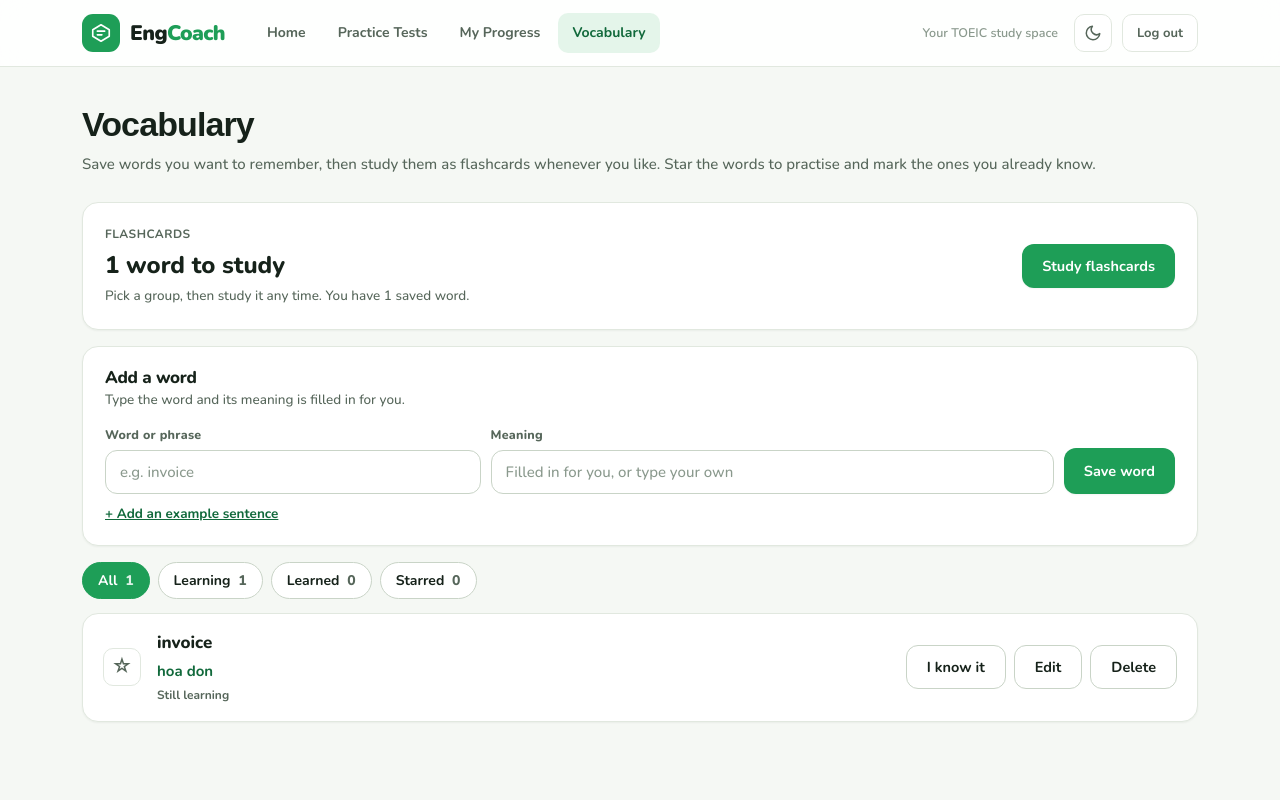
Test: Vocabulary page › edits a word in place
This screenshot has width=1280, height=800.
Step 1. Click the button with aria-label "Edit invoice" → (1048, 668), box x1=1014 y1=646 x2=1082 y2=690
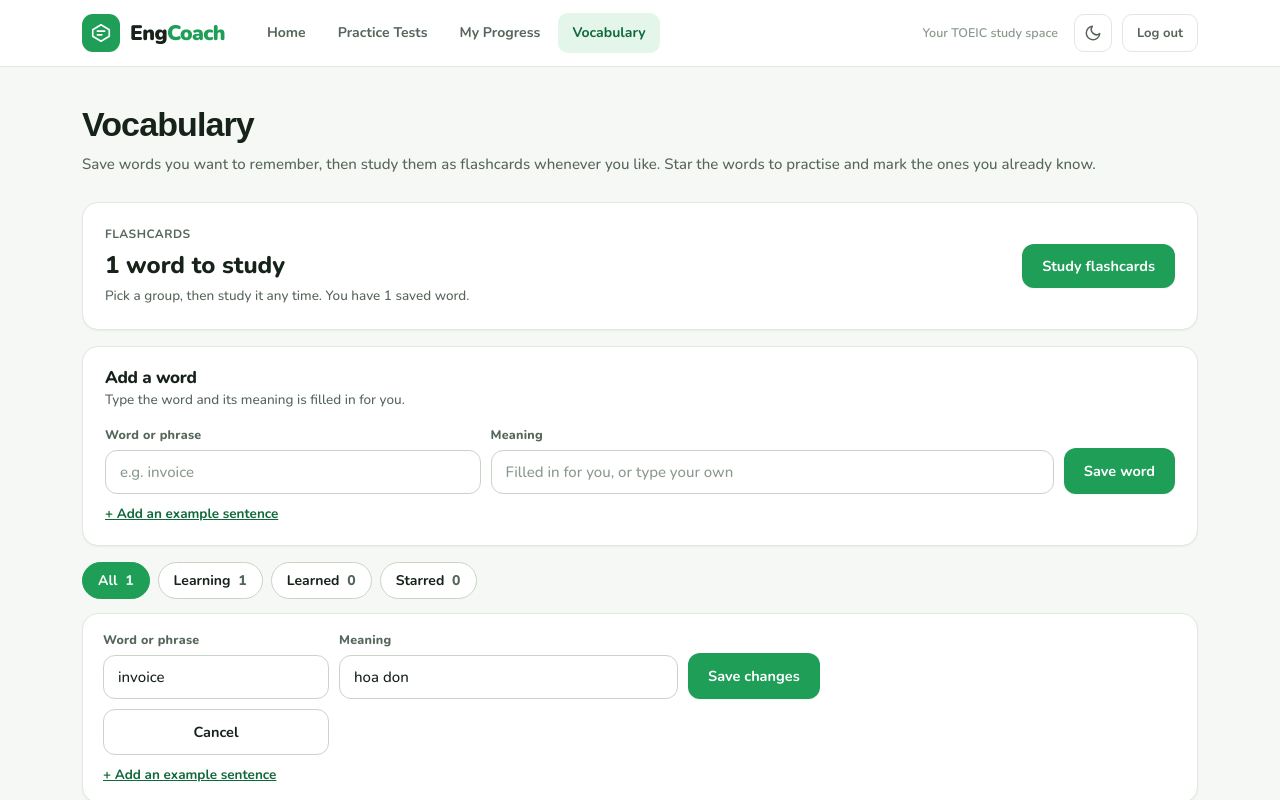
Step 2. Replace the text in the 2nd field labelled "Meaning" with "hoa don ban hang" → (508, 677), box x1=339 y1=655 x2=678 y2=699
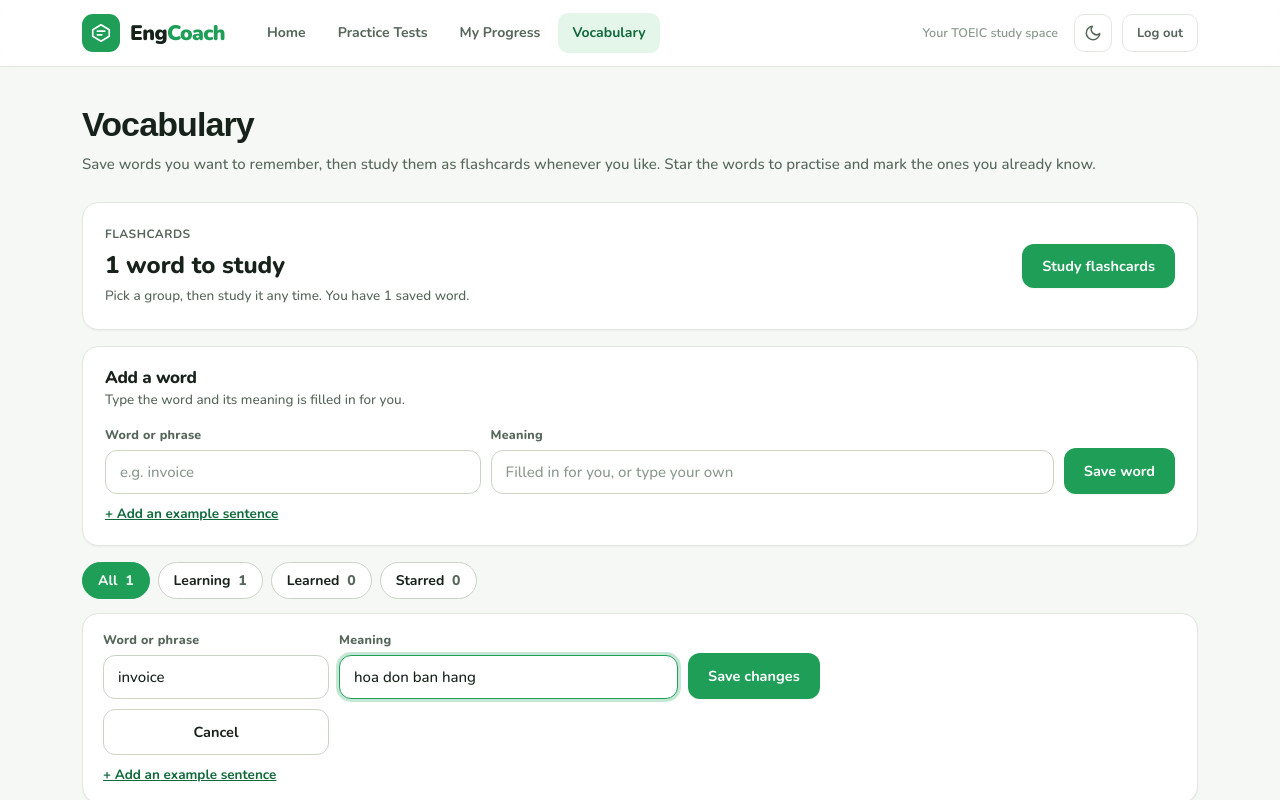
Step 3. Click the button "Save changes" → (754, 676), box x1=688 y1=653 x2=820 y2=699
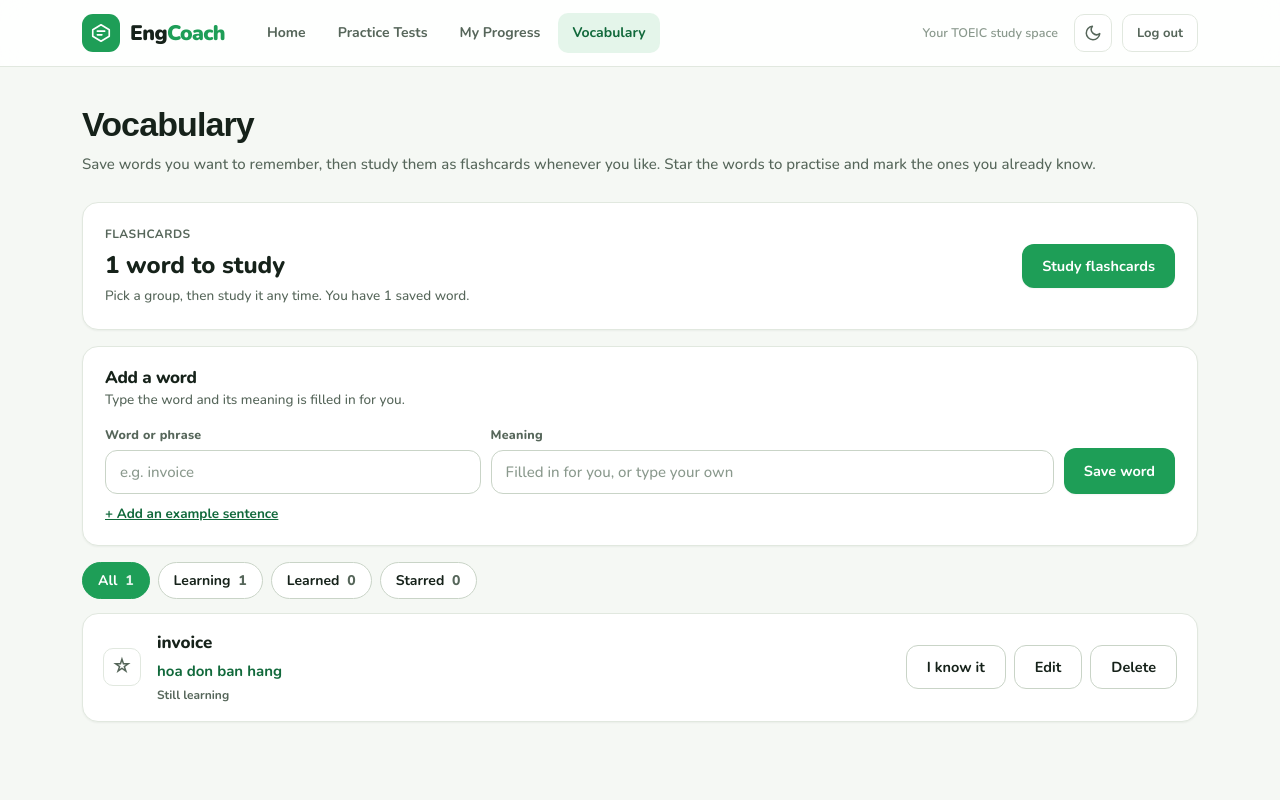
Expected: the text "hoa don ban hang" is shown, x1=157 y1=661 x2=282 y2=681
